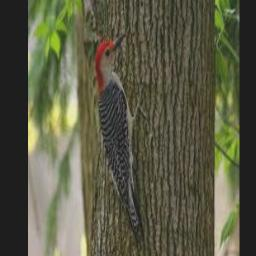Woodpecker: (95, 31, 147, 236)
